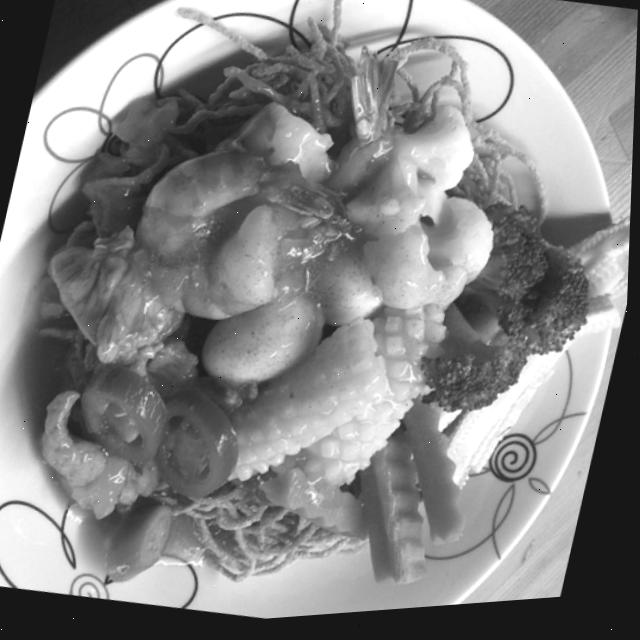面条主食: (14, 0, 640, 638)
